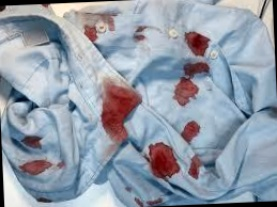blood: (103, 87, 136, 142), (147, 141, 180, 178), (185, 30, 210, 58), (174, 76, 198, 105), (180, 120, 201, 144), (18, 160, 53, 174), (184, 62, 209, 76), (134, 194, 163, 206), (21, 136, 43, 150), (83, 25, 98, 42), (190, 155, 200, 180), (135, 26, 146, 43), (107, 17, 114, 31)
